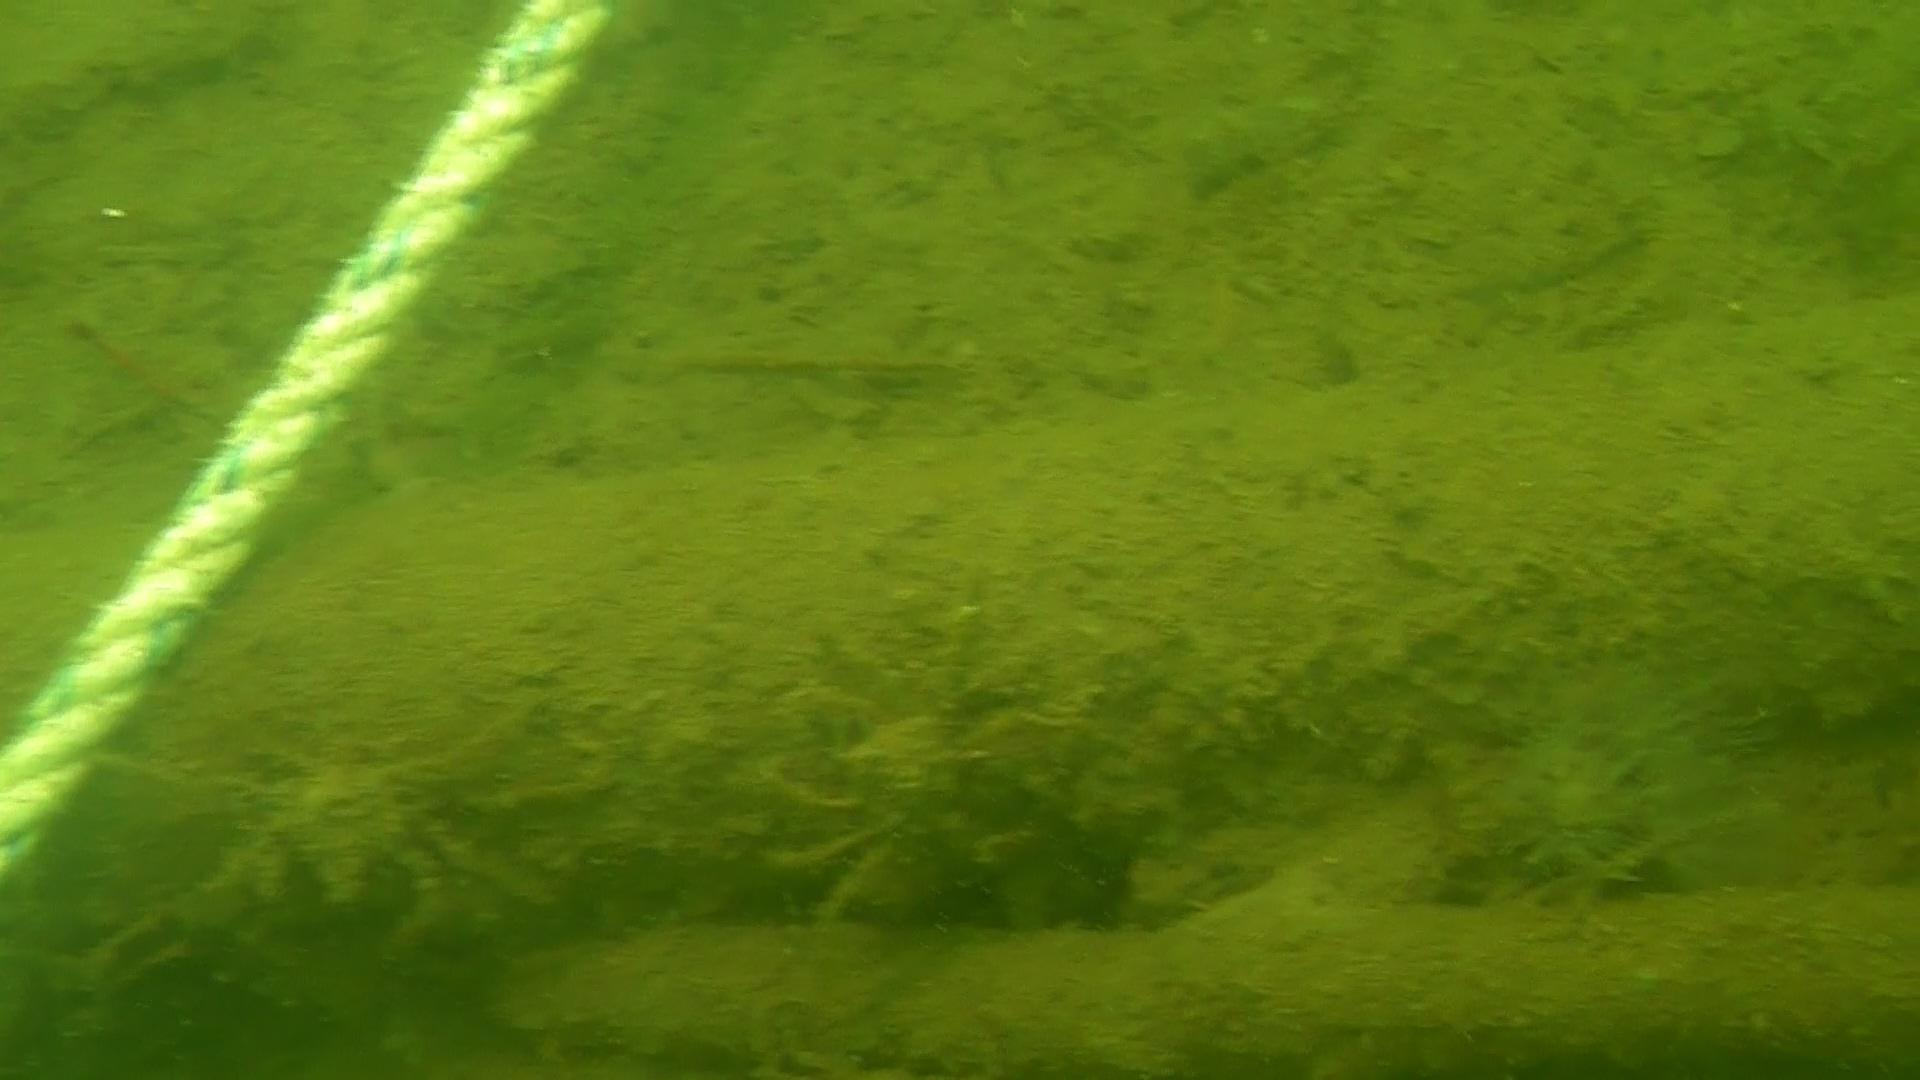rope: (0, 3, 622, 880)
